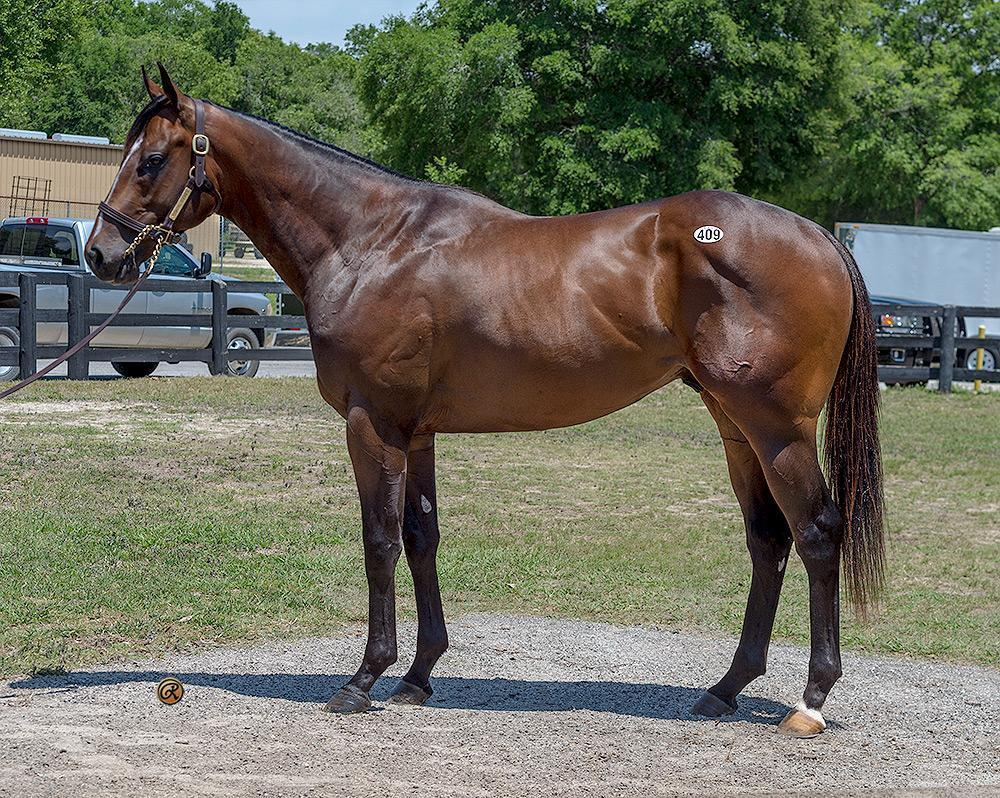horse: (78, 50, 898, 744)
